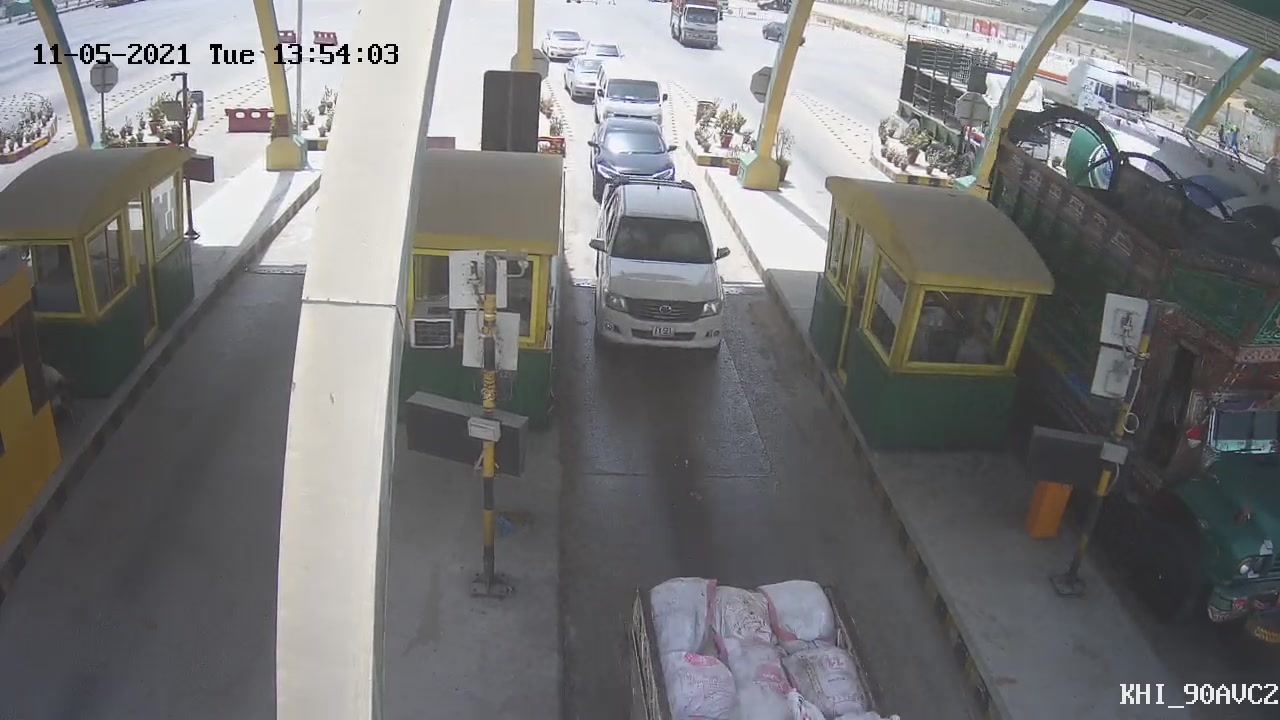F1: (587, 179, 742, 373)
